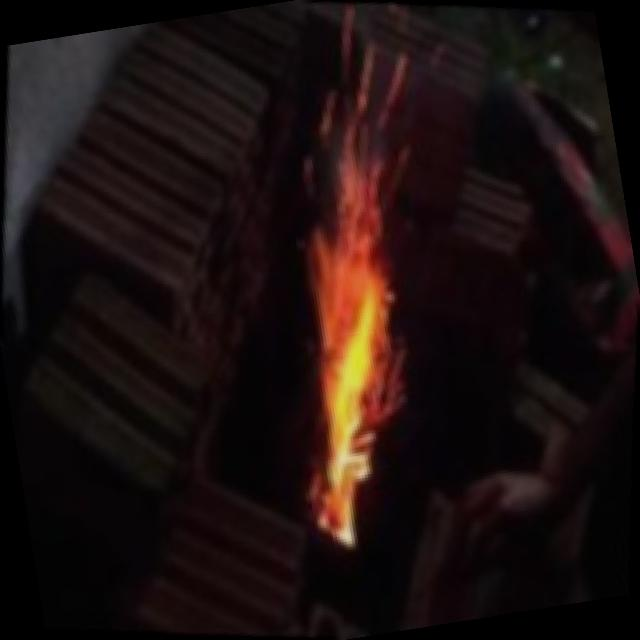fire: (172, 17, 535, 606)
